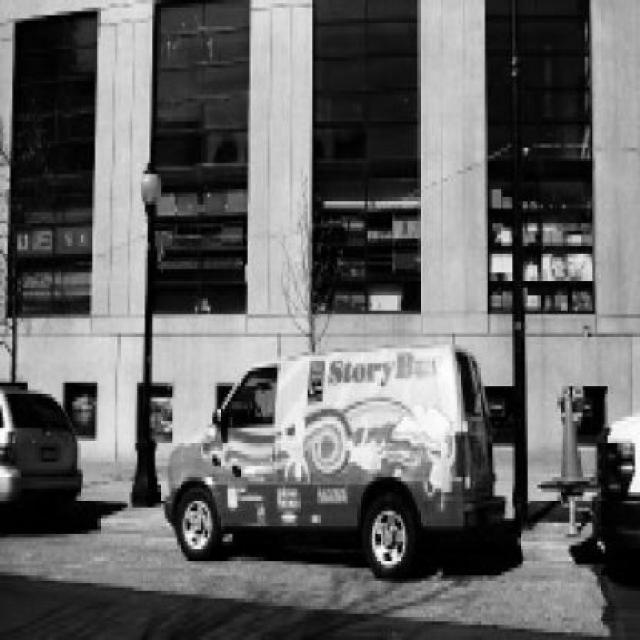Van: (164, 345, 505, 579)
